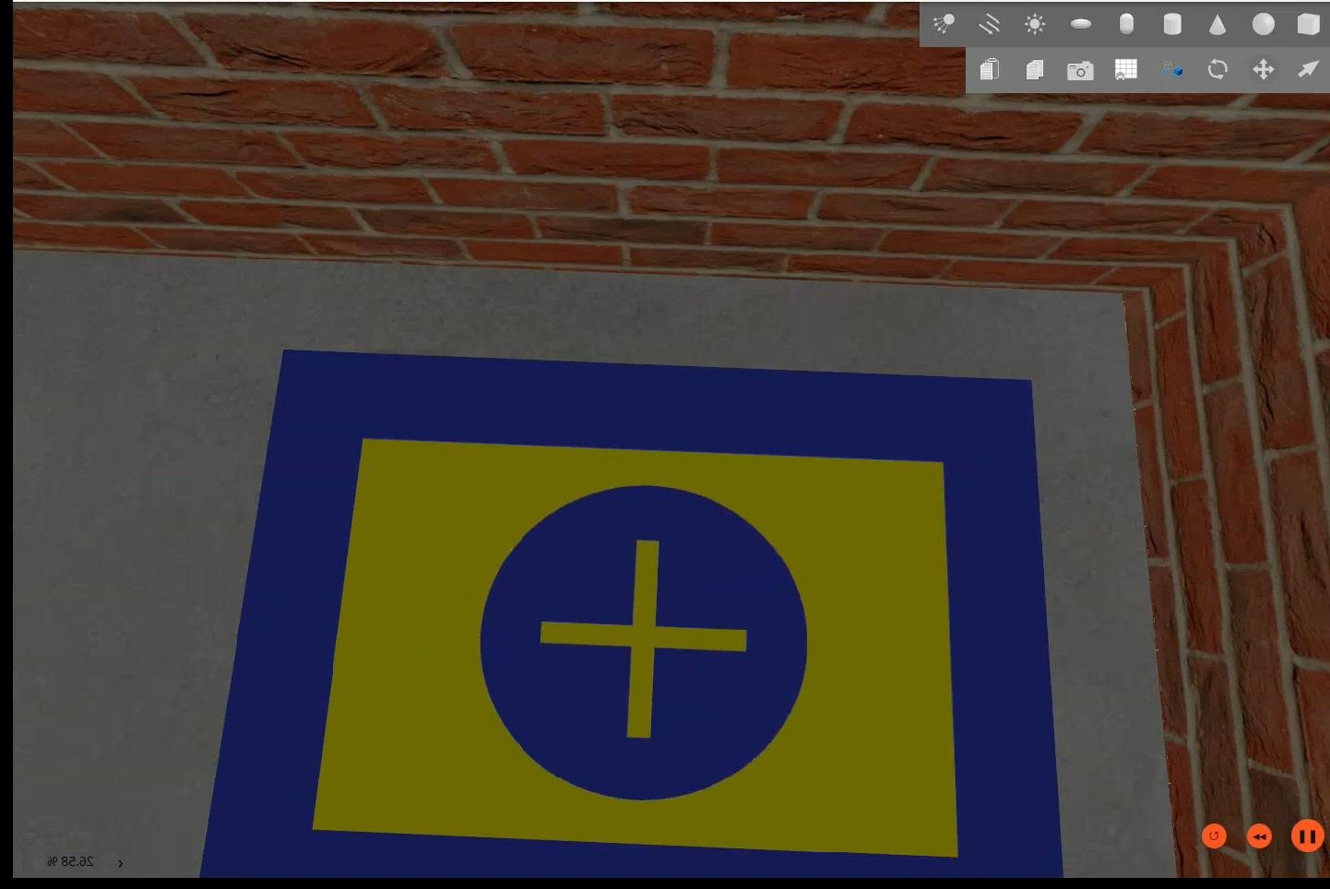large_base: (197, 350, 1061, 879)
